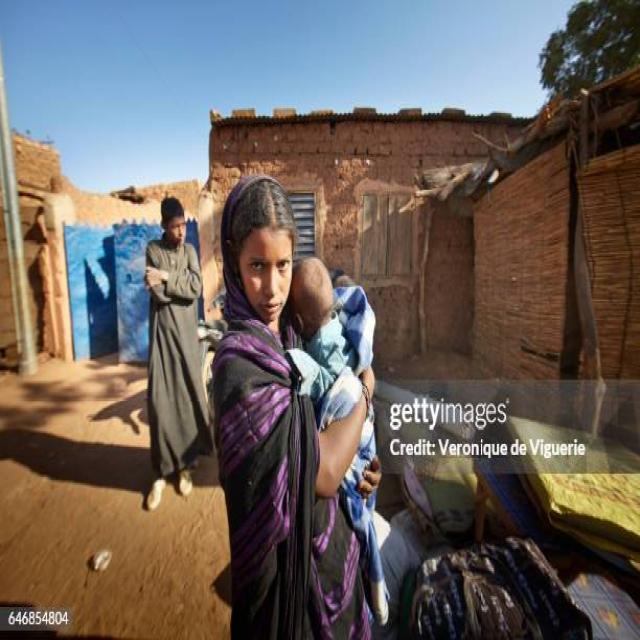civilian: (213, 177, 388, 638), (144, 196, 211, 510)
